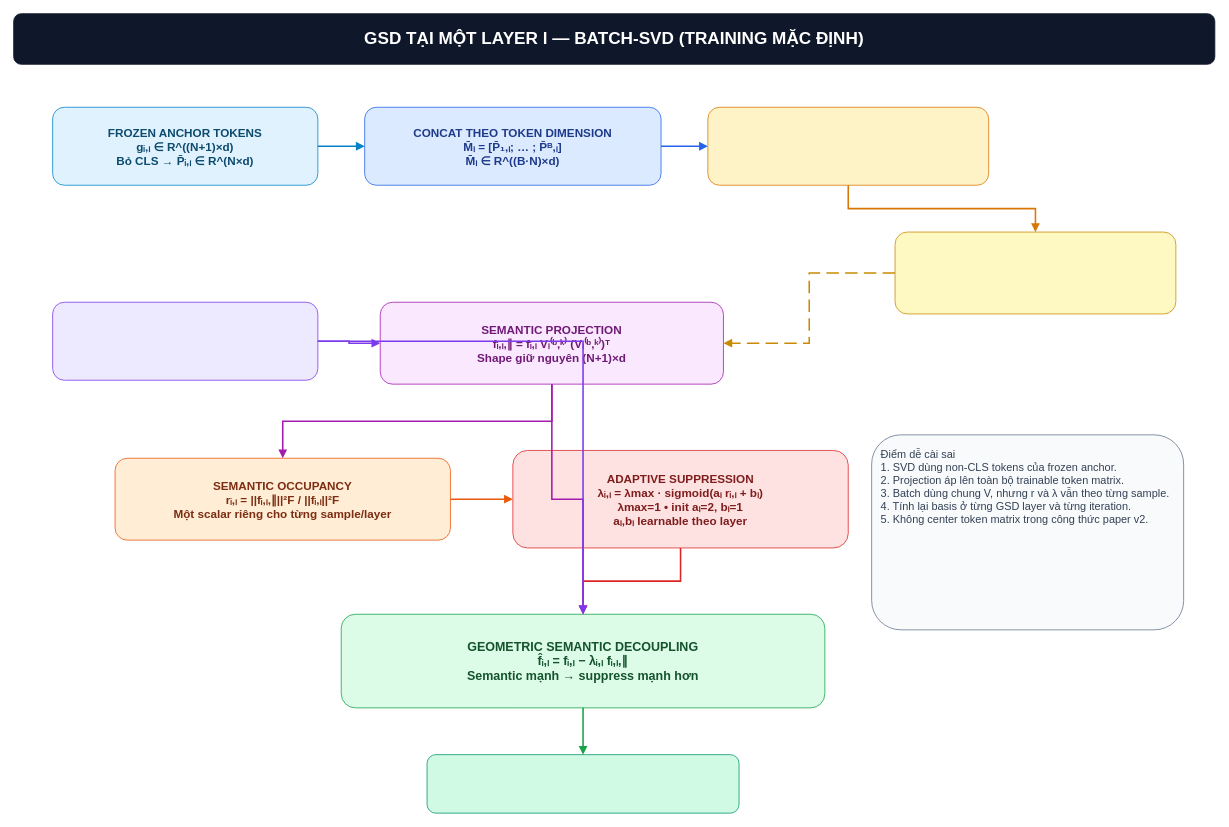
The diagram is 1229 pixels wide and 827 high, and some of its shapes have lost their labels. The shapes that lost their labels are listed below. From the top down, each one's centre as x and y in pixels, then its label:
At (848,145): "MỘT SVD CHO MỖI LAYER / MINI-BATCH M̄ₗ = Uₗ⁽ᵇ⁾ Σₗ⁽ᵇ⁾ (Vₗ⁽ᵇ⁾)ᵀ".
At (1035,272): "SEMANTIC BASIS CHUNG Vₗ⁽ᵇ,ᵏ⁾ = top-k right singular vectors Shape d×k • k=64".
At (185,340): "TRAINABLE FORENSIC TOKENS fᵢ,ₗ ∈ R^((N+1)×d) Có CLS + patch tokens".
At (582,783): "Đưa f̂ᵢ,ₗ sang layer kế tiếp Lặp tại 4 layer cuối".
